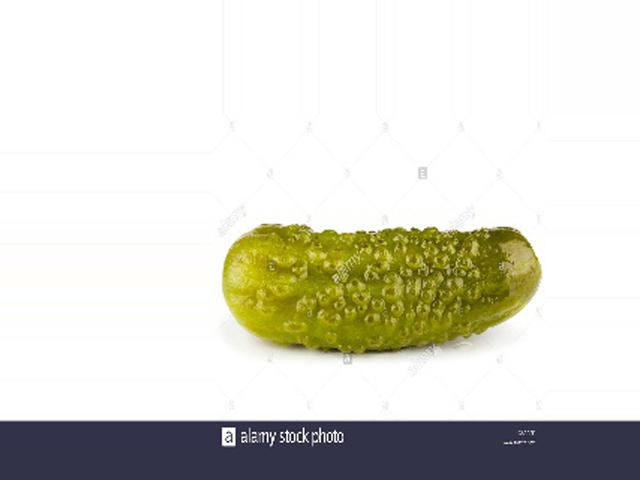cucumber: (222, 224, 543, 353)
